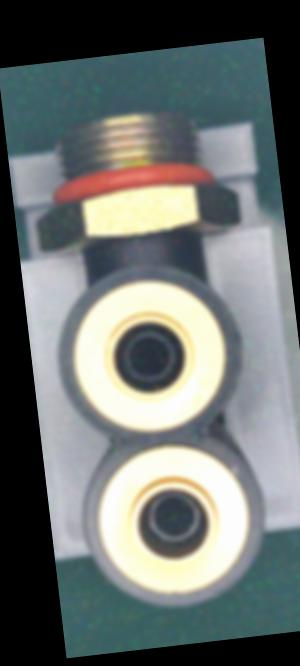white mark: (131, 234, 145, 249)
